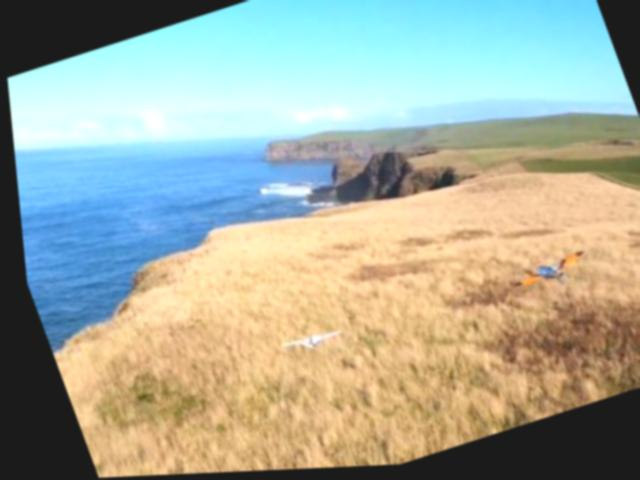uav: (499, 250, 588, 299), (270, 321, 342, 360)
